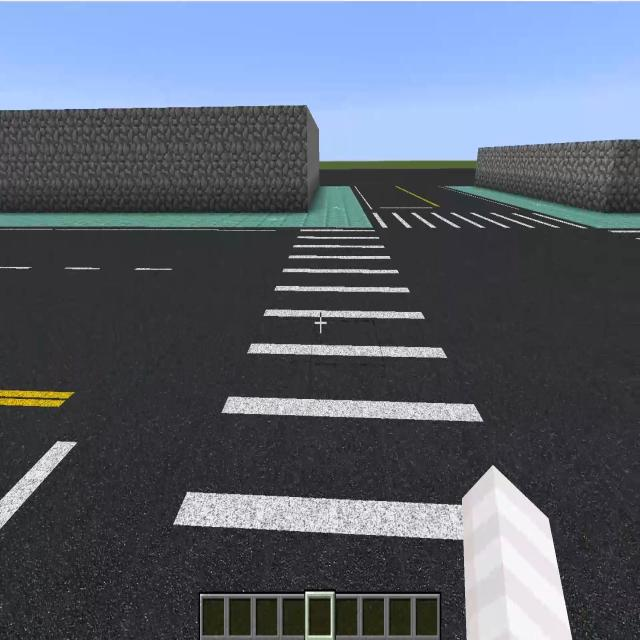crosswalk: (124, 227, 508, 639), (369, 209, 597, 230), (603, 229, 640, 245)
road: (1, 230, 291, 633), (385, 229, 637, 636), (320, 171, 497, 206)
sidewalk: (0, 186, 372, 229), (441, 186, 640, 233)
